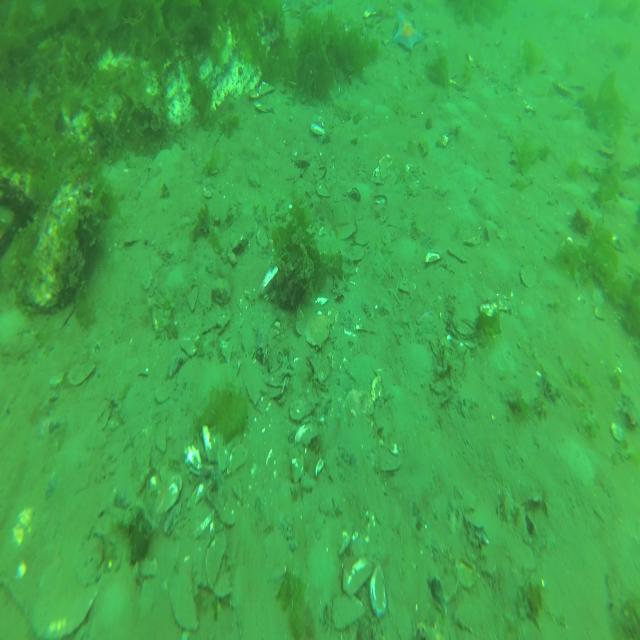starfish: (392, 10, 426, 56)
